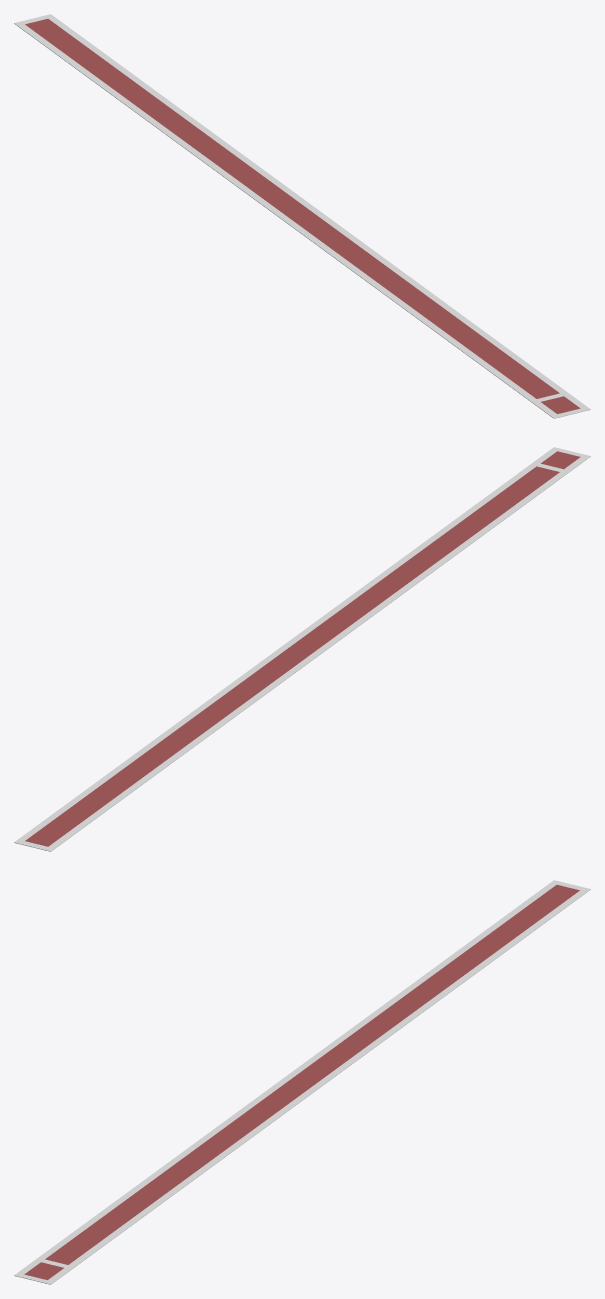
Rendered from Long Jump Run.fbx.
3 views of the same model, one above another, from view 1: azimuth 30°, elevation 25°; view 2: azimuth 150°, elevation 25°; view 3: azimuth 330°, elevation 25° (orthographic).
Visible parts, largest first — view 1: Long Jump Run; view 2: Long Jump Run; view 3: Long Jump Run.
Part boxes in pixels (<box>): Long Jump Run: <box>14,14,590,418</box>; Long Jump Run: <box>14,447,590,851</box>; Long Jump Run: <box>14,880,590,1284</box>.
Bounding box in the file's own units: 810 × 10 × 20535.
